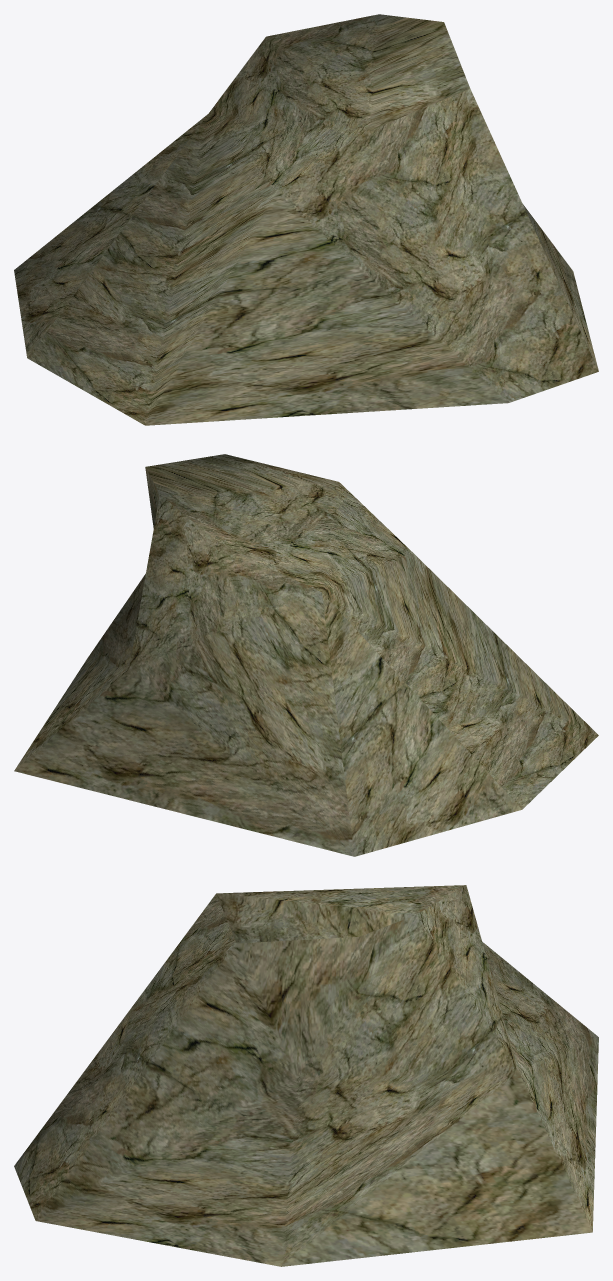
File: rock_plain_white_a1_l3.fbx
3 renders of one model, top to bottom at view 1: azimuth 30°, elevation 25°; view 2: azimuth 150°, elevation 25°; view 3: azimuth 270°, elevation 25°, orthographic. The views are drawn at different scales.
Parts seen in each view (by area): view 1: mesh_node; view 2: mesh_node; view 3: mesh_node.
Part boxes in pixels (bbox=[...]): mesh_node: bbox=[14, 14, 598, 425]; mesh_node: bbox=[14, 454, 598, 856]; mesh_node: bbox=[14, 885, 598, 1266].
Bounding box in the file's own units: 5.19 × 2.46 × 4.68.
